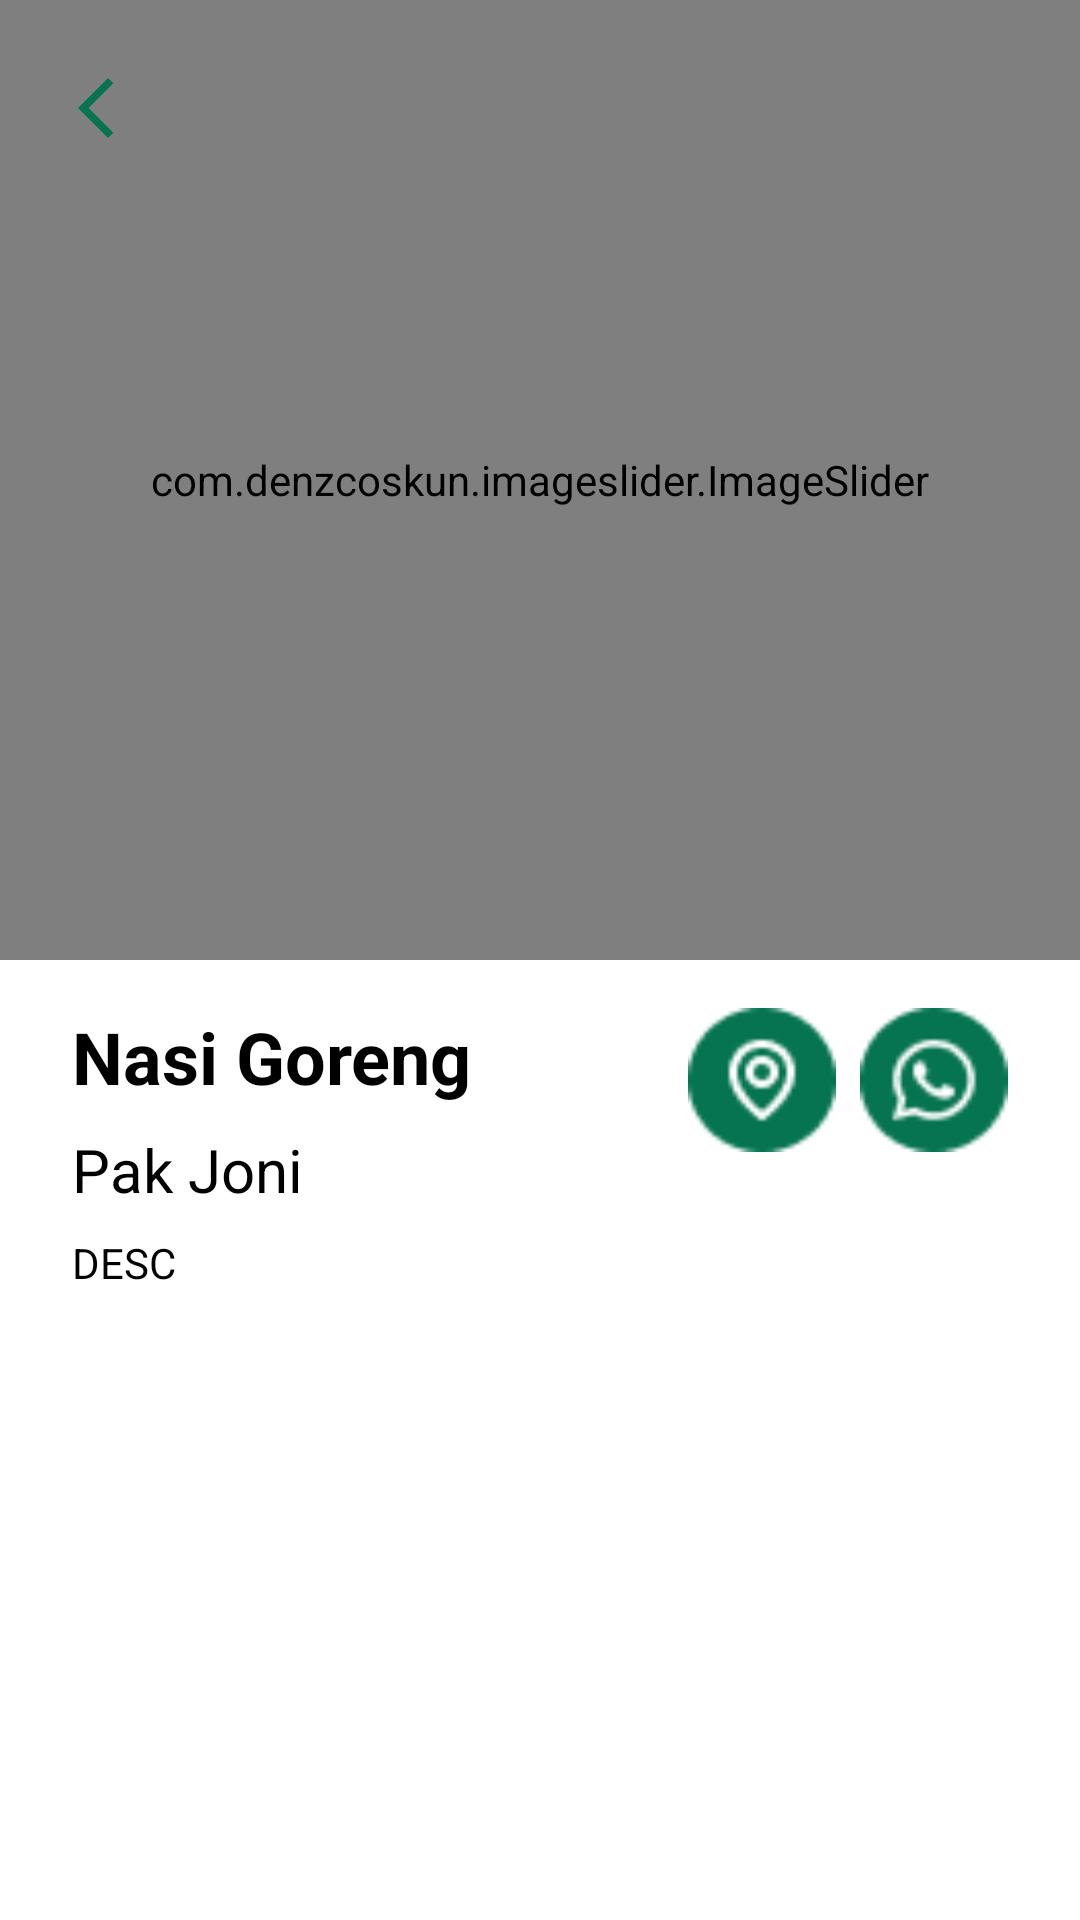

Named icons in this screenshot (1080 x 1920) and their bounding boxes, (x1, y1, x2, y2):
arrow back: (78, 78, 113, 138)
maps: (688, 1008, 836, 1152)
